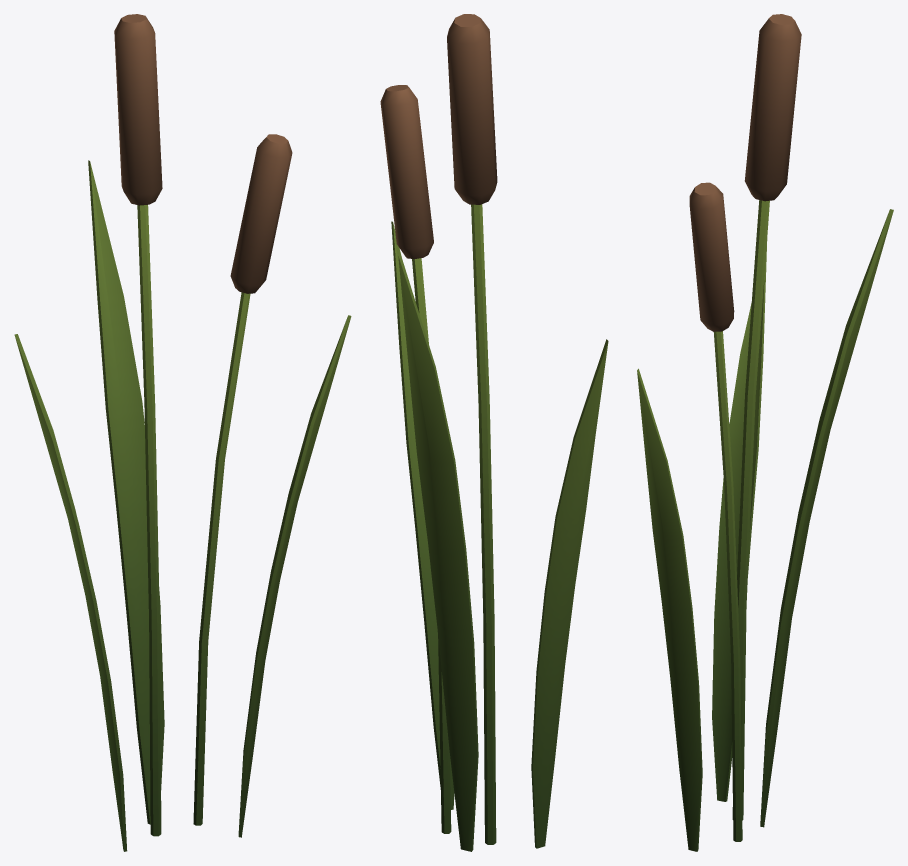
The model's file is PondPlant_05.fbx.
3 views of the same model, side by side, from view 1: azimuth 30°, elevation 25°; view 2: azimuth 150°, elevation 25°; view 3: azimuth 270°, elevation 25° (orthographic). The views are drawn at different scales.
Parts seen in each view (by area): view 1: PondPlant_05_LOD0; view 2: PondPlant_05_LOD0; view 3: PondPlant_05_LOD0.
Boxes of the visible parts, left/top/right/bottom form: PondPlant_05_LOD0: left=14, top=14, right=351, bottom=851; PondPlant_05_LOD0: left=380, top=14, right=608, bottom=851; PondPlant_05_LOD0: left=637, top=14, right=893, bottom=851.
Size of what is drawn, in the model's own units: 0.252 by 0.709 by 0.2059.
